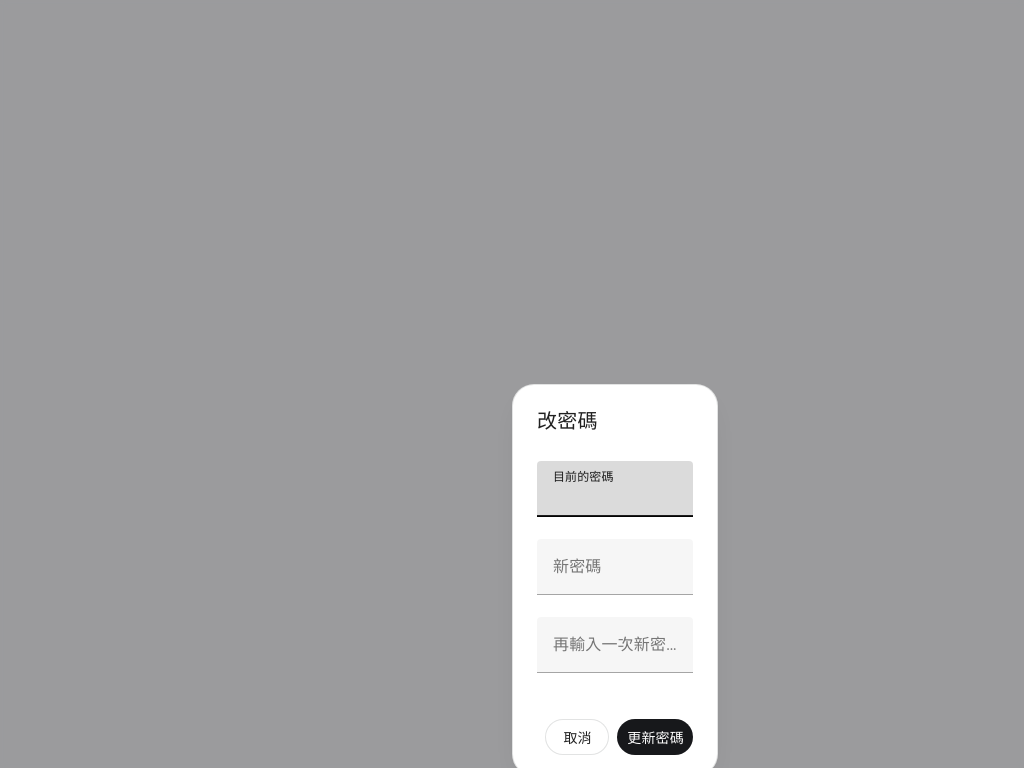
PasswordDialog › 失敗時錯誤顯示在標題下面
The image size is (1024, 768).
Type "wrong" into the password field labelled "目前的密碼" at (615, 489), box [537, 461, 693, 517]
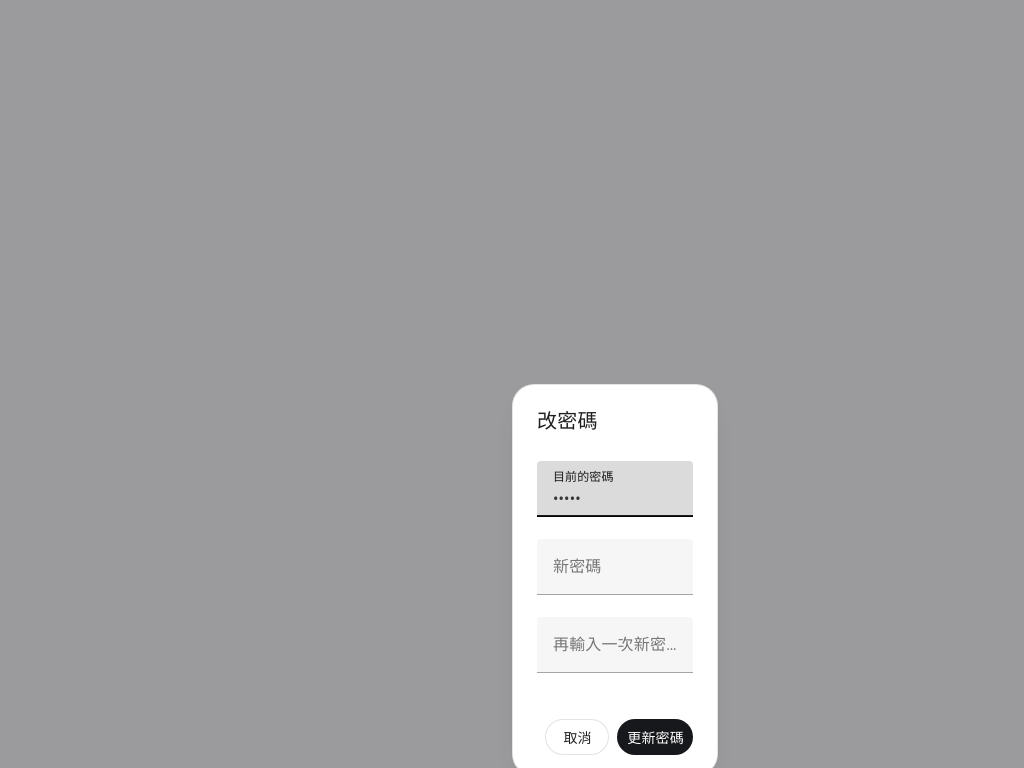
Type "new-password-1" into the password field labelled "新密碼" at (615, 567), box [537, 539, 693, 595]
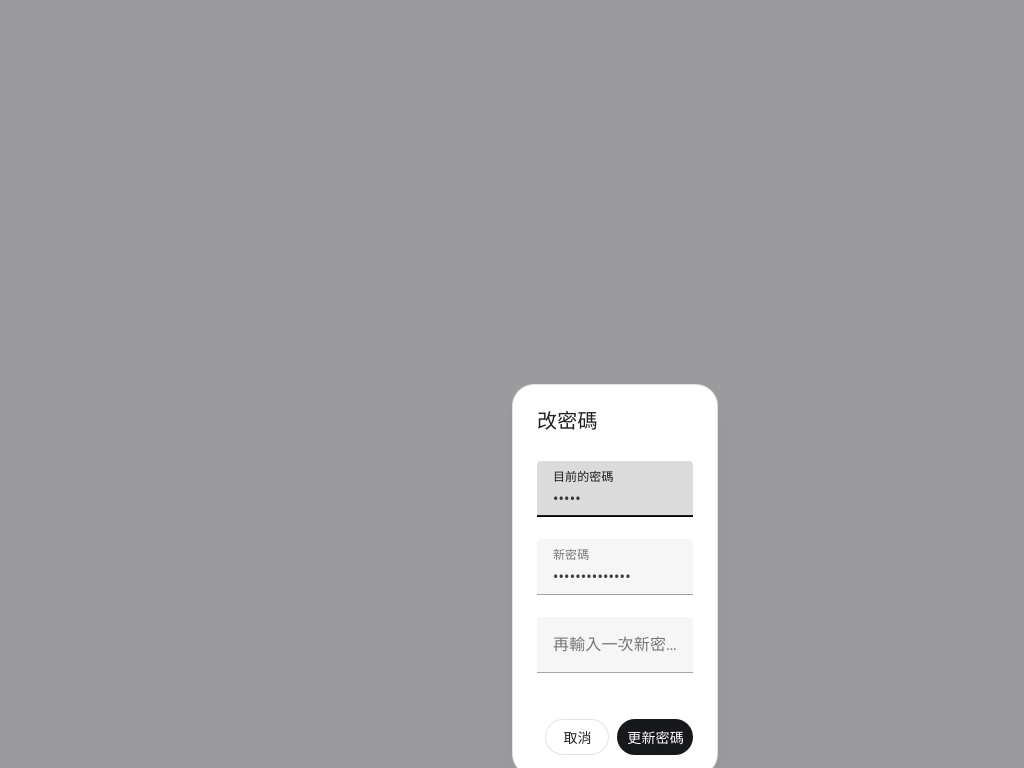
Type "new-password-1" into the password field labelled "再輸入一次新密碼" at (615, 645), box [537, 617, 693, 673]
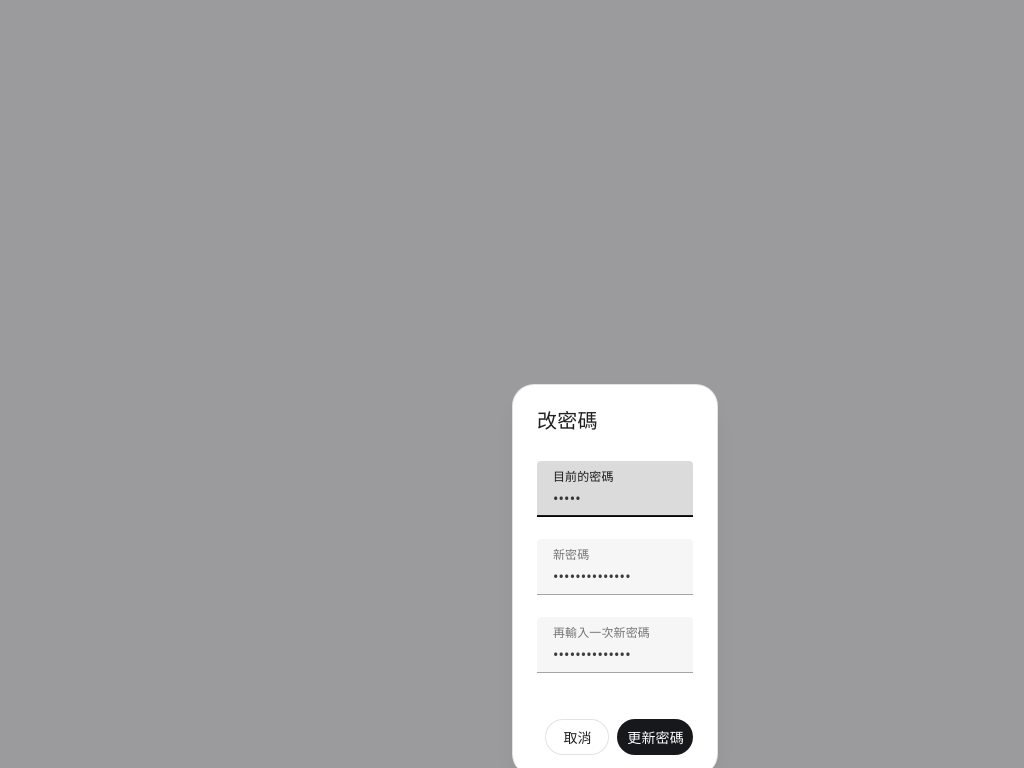
Submit the form, box [537, 461, 693, 755]
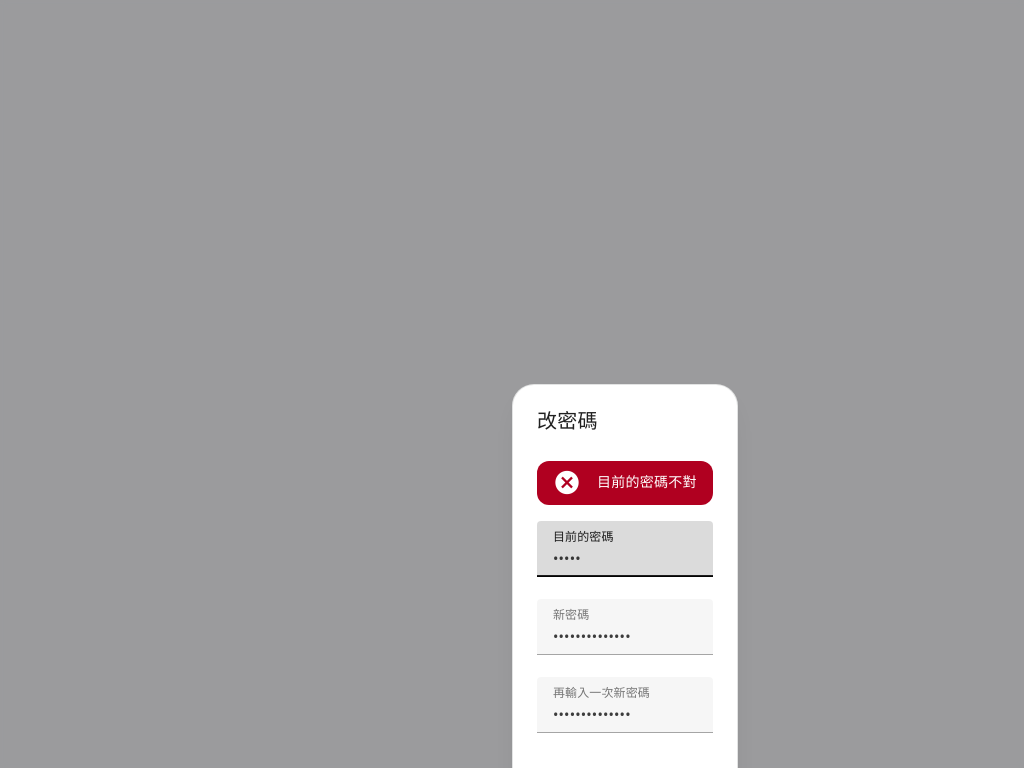
Expected: the element showing "目前的密碼" is shown, [537, 521, 713, 599]
Now the message "目前的密碼不對" is shown, box [537, 461, 713, 505]
